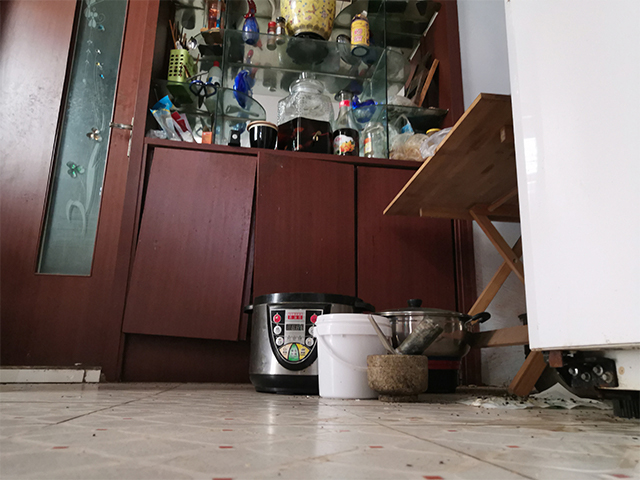cabinet: (110, 136, 481, 387)
table: (380, 91, 558, 399)
